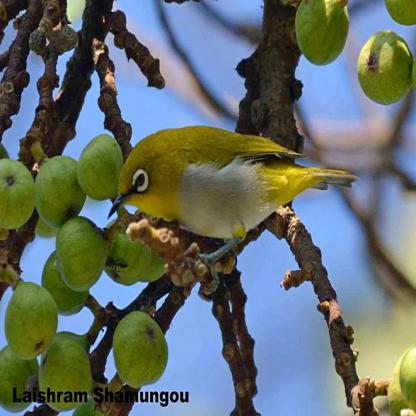Burung: (107, 125, 360, 239)
